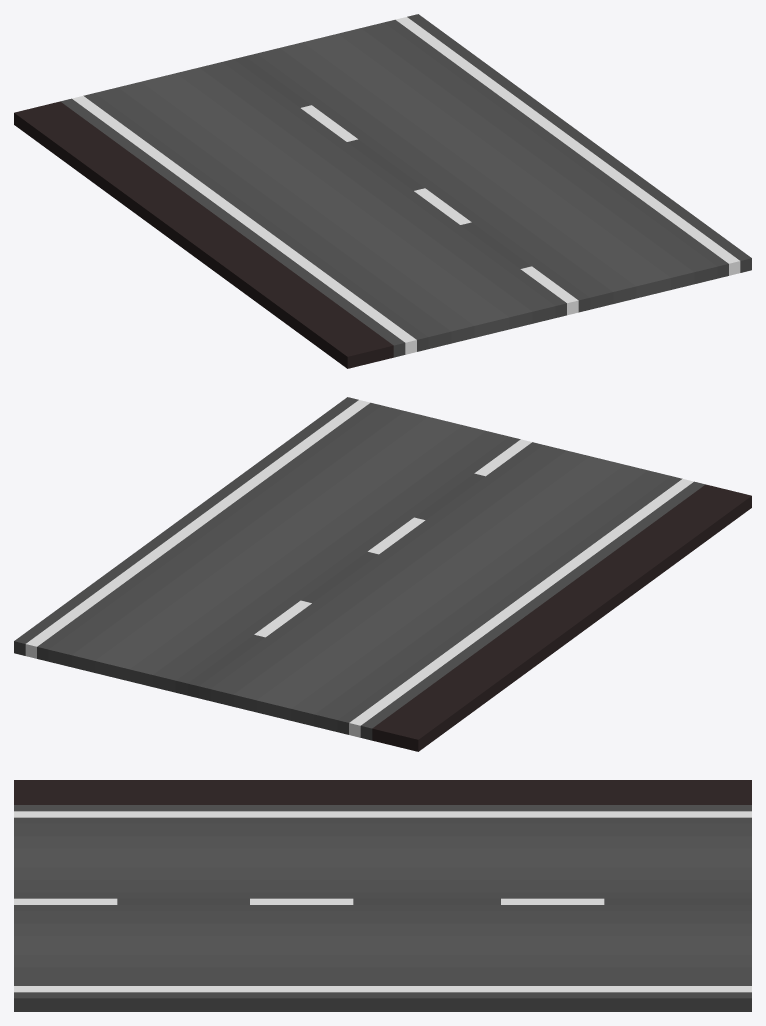
File: road_only-1.obj
3 renders of one model, top to bottom at view 1: azimuth 30°, elevation 25°; view 2: azimuth 150°, elevation 25°; view 3: azimuth 270°, elevation 25°, orthographic. The views are drawn at different scales.
Size of the model in its own units: 7 by 0.2 by 10.
1 material, 1 textured.
